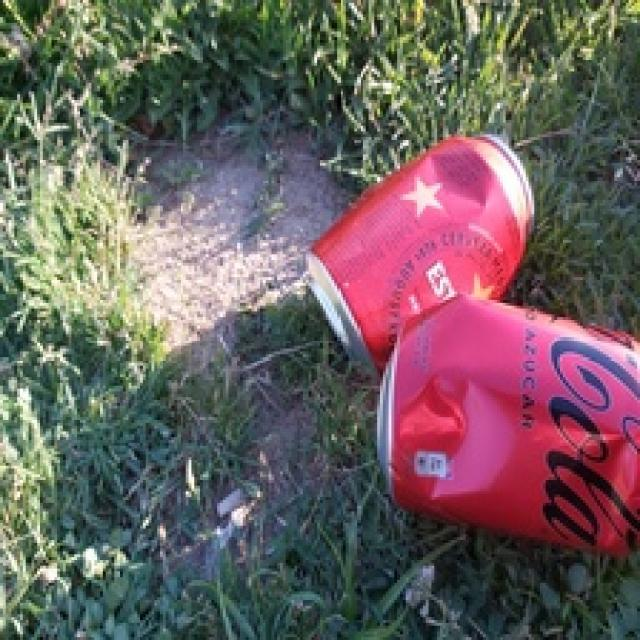recyclable: (374, 294, 640, 558), (304, 133, 536, 382)
